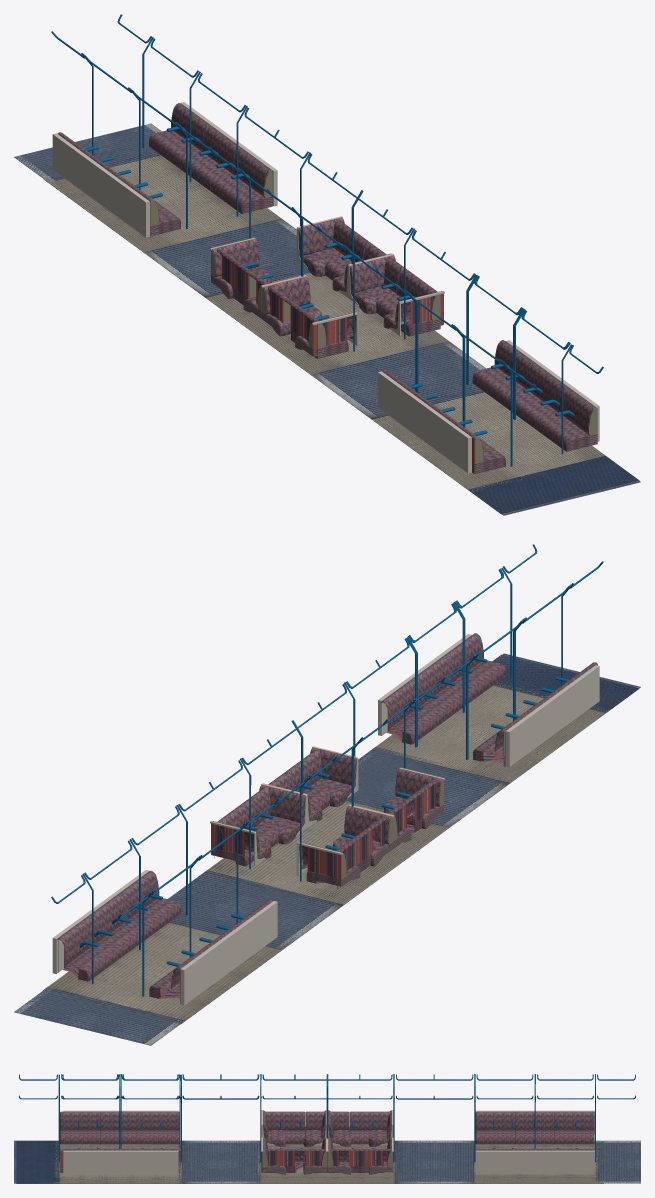
The model's file is london_underground_1967.obj.
The picture shows the model from 3 angles, top to bottom: view 1: azimuth 30°, elevation 25°; view 2: azimuth 150°, elevation 25°; view 3: azimuth 270°, elevation 25°; orthographic projection. The views are drawn at different scales.
Visible parts, largest first — view 1: interior_floor_car_1_victoria_line, interior_floor_p_car_victoria_line, seat_side_box, seat_side_box_1, right_end_real_seat_3, right_end_real_seat_2, right_end_real_seat_1, right_front_real_seat_2, right_front_real_seat_1, right_front_real_seat_3_1_p_car, right_front_real_seat_3_p_car, right_front_real_seat_3 (+17 smaller); view 2: interior_floor_car_1_victoria_line, interior_floor_p_car_victoria_line, seat_side_box, seat_side_box_1, right_end_real_seat_1, right_front_real_seat_1, right_front_real_seat_2, right_end_real_seat_2, right_front_real_seat_3, right_middle_real_seat_1, right_middle_real_seat_2, left_middle_real_seat_2 (+18 smaller); view 3: interior_floor_car_1_victoria_line, interior_floor_p_car_victoria_line, seat_side_box_2, seat_side_box_1_2, left_end_real_seat_2, left_end_real_seat_1, left_front_real_seat_2, left_end_real_seat_3, left_front_real_seat_3, left_front_real_seat_1, left_front_real_seat_3_2_p_car, left_front_real_seat_3_p_car_left_2 (+22 smaller).
Boxes of the visible parts, x1=… form: interior_floor_car_1_victoria_line: x1=14, y1=123, x2=639, y2=514; interior_floor_p_car_victoria_line: x1=14, y1=125, x2=640, y2=515; seat_side_box: x1=52, y1=133, x2=149, y2=237; seat_side_box_1: x1=378, y1=371, x2=471, y2=473; right_end_real_seat_3: x1=211, y1=148, x2=272, y2=213; right_end_real_seat_2: x1=180, y1=125, x2=240, y2=190; right_end_real_seat_1: x1=149, y1=103, x2=209, y2=167; right_front_real_seat_2: x1=503, y1=362, x2=564, y2=427; right_front_real_seat_1: x1=472, y1=340, x2=532, y2=404; right_front_real_seat_3_1_p_car: x1=376, y1=269, x2=440, y2=336; right_front_real_seat_3_p_car: x1=536, y1=386, x2=597, y2=451; right_front_real_seat_3: x1=535, y1=385, x2=594, y2=450; interior_floor_car_1_victoria_line: x1=14, y1=654, x2=639, y2=1045; interior_floor_p_car_victoria_line: x1=14, y1=653, x2=640, y2=1034; seat_side_box: x1=180, y1=901, x2=277, y2=1005; seat_side_box_1: x1=505, y1=665, x2=599, y2=767; right_end_real_seat_1: x1=57, y1=916, x2=118, y2=981; right_front_real_seat_1: x1=381, y1=679, x2=442, y2=744; right_front_real_seat_2: x1=413, y1=657, x2=473, y2=721; right_end_real_seat_2: x1=89, y1=893, x2=149, y2=958; right_front_real_seat_3: x1=444, y1=634, x2=504, y2=698; right_middle_real_seat_1: x1=298, y1=842, x2=360, y2=886; right_middle_real_seat_2: x1=333, y1=806, x2=392, y2=866; left_middle_real_seat_2: x1=259, y1=785, x2=305, y2=844; interior_floor_car_1_victoria_line: x1=16, y1=1140, x2=640, y2=1183; interior_floor_p_car_victoria_line: x1=14, y1=1140, x2=640, y2=1183; seat_side_box_2: x1=475, y1=1150, x2=594, y2=1174; seat_side_box_1_2: x1=63, y1=1150, x2=178, y2=1174; left_end_real_seat_2: x1=515, y1=1111, x2=554, y2=1144; left_end_real_seat_1: x1=555, y1=1111, x2=594, y2=1144; left_front_real_seat_2: x1=101, y1=1111, x2=140, y2=1144; left_end_real_seat_3: x1=475, y1=1111, x2=514, y2=1144; left_front_real_seat_3: x1=62, y1=1111, x2=100, y2=1144; left_front_real_seat_1: x1=141, y1=1111, x2=179, y2=1144; left_front_real_seat_3_2_p_car: x1=349, y1=1111, x2=391, y2=1144; left_front_real_seat_3_p_car_left_2: x1=263, y1=1111, x2=305, y2=1144.
Bounding box in the file's own units: 2.56 × 2.15 × 15.74.
